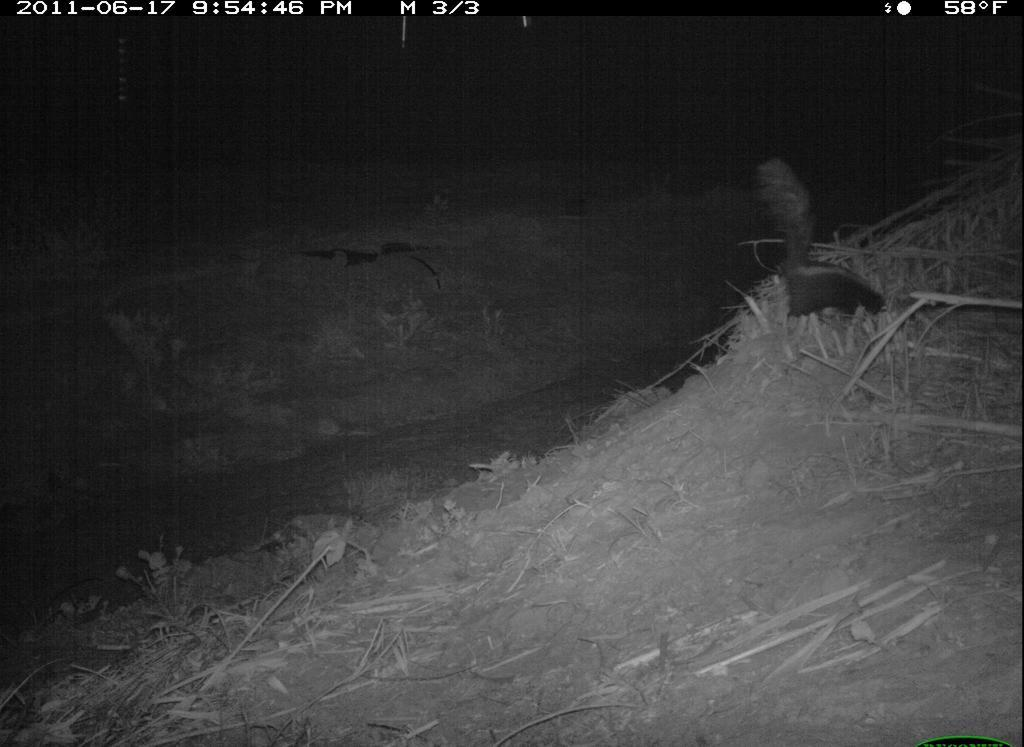skunk: (743, 153, 894, 346)
